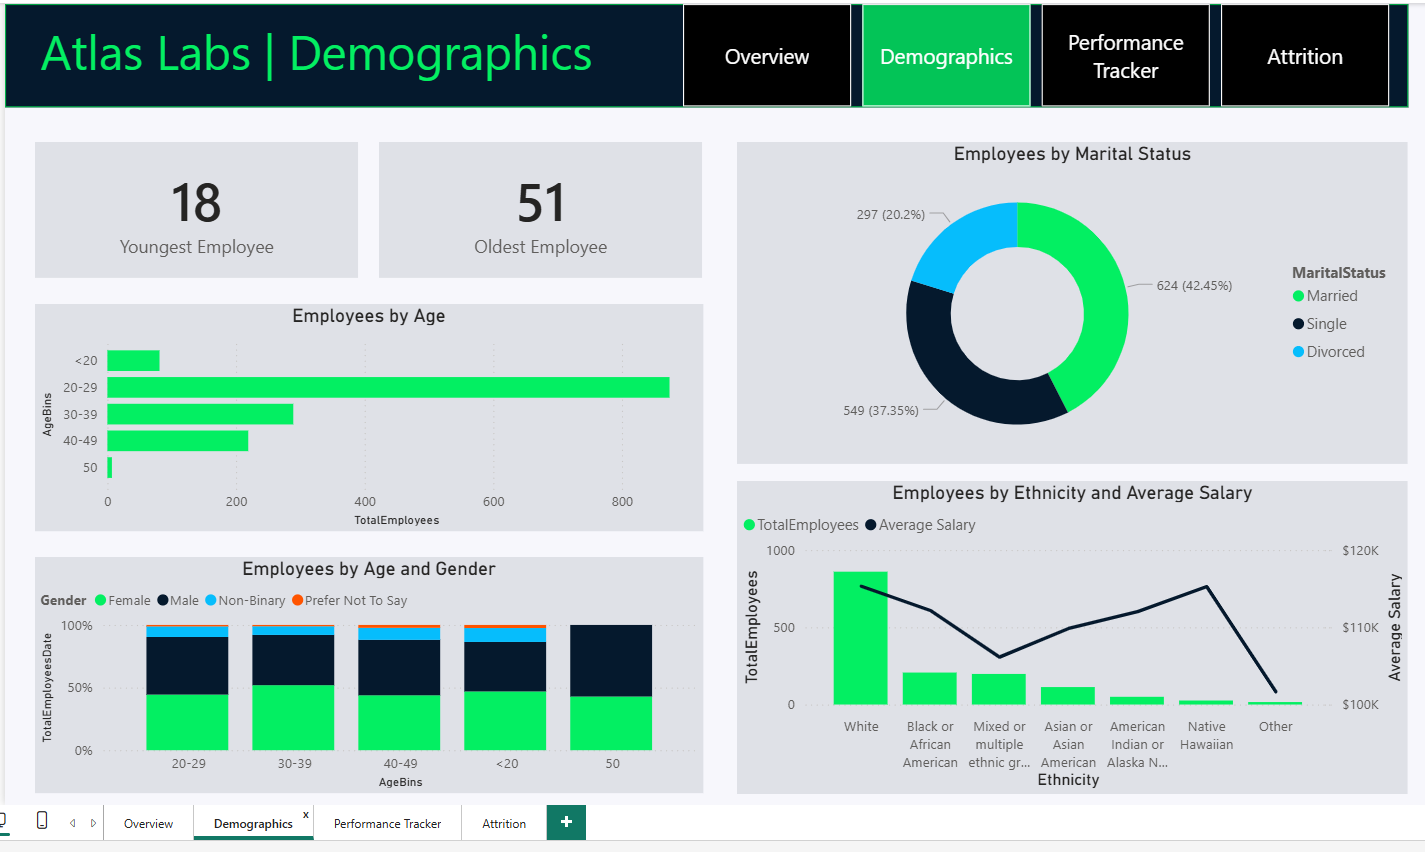

The page's visual inventory and layout, read from the dashboard file:
{"tool":"powerbi","page":{"name":"Demographics","canvas":[1280,720],"ordinal":1},"visuals":[{"type":"card","title":"Youngest Employee","fields":{"Values":["Min(DimEmployee.Age)"]},"box":[26.9,125,290.4,122.4],"z":0},{"type":"card","title":"Oldest Employee","fields":{"Values":["Max(DimEmployee.Age)"]},"box":[336.1,125,290.4,122.4],"z":1000},{"type":"clusteredBarChart","title":"Employees by Age ","fields":{"Y":["_Measures.TotalEmployees"],"Category":["DimEmployee.AgeBins"]},"box":[26.9,270.3,599.7,204.4],"z":2000},{"type":"hundredPercentStackedColumnChart","title":"Employees by Age and Gender","fields":{"Y":["_Measures.TotalEmployeesDate"],"Category":["DimEmployee.AgeBins"],"Series":["DimEmployee.Gender"]},"box":[26.9,497.5,599.7,212.4],"z":3000},{"type":"donutChart","title":"Employees by Marital Status ","fields":{"Category":["DimEmployee.MaritalStatus"],"Y":["_Measures.TotalEmployees"]},"box":[657.5,125,602.4,289.1],"z":4000},{"type":"lineStackedColumnComboChart","title":"Employees by Ethnicity and Average Salary","fields":{"Y":["_Measures.TotalEmployees"],"Category":["DimEmployee.Ethnicity"],"Y2":["_Measures.Average Salary"]},"box":[657.5,428.9,602.4,281],"z":5000},{"type":"shape","box":[0,1.3,1259.8,92.8],"z":6000},{"type":"textbox","box":[26.9,9.4,505.5,68.6],"z":7000},{"type":"pageNavigator","box":[609.1,1.3,634.6,92.8],"z":7001}]}

Visuals, with their boxes on the page's 1280x720 design canvas (x1, y1, x2, y2). These are canvas units, not pixel positions in the 1425x852 screenshot, which may show the page scaled, cropped or inside an application window:
"Youngest Employee" card: crop(27, 125, 317, 247)
"Oldest Employee" card: crop(336, 125, 626, 247)
"Employees by Age " clusteredBarChart: crop(27, 270, 627, 475)
"Employees by Age and Gender" hundredPercentStackedColumnChart: crop(27, 498, 627, 710)
"Employees by Marital Status " donutChart: crop(658, 125, 1260, 414)
"Employees by Ethnicity and Average Salary" lineStackedColumnComboChart: crop(658, 429, 1260, 710)
shape: crop(0, 1, 1260, 94)
textbox: crop(27, 9, 532, 78)
pageNavigator: crop(609, 1, 1244, 94)
